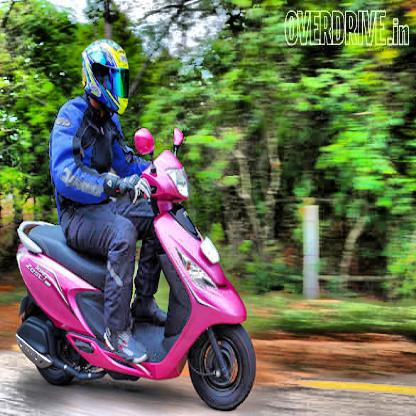wear: (81, 37, 129, 122)
